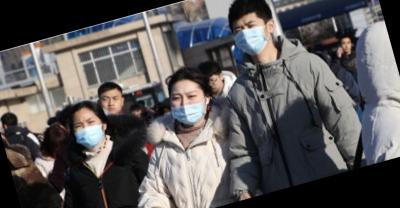with_mask: (167, 84, 213, 130), (229, 12, 275, 58), (69, 112, 110, 153)
without_mask: (99, 90, 125, 117), (207, 72, 225, 94), (342, 36, 355, 53)
